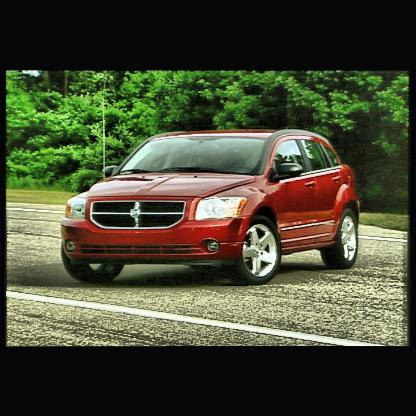Dodge Caliber Wagon 2012: (62, 129, 361, 284)
